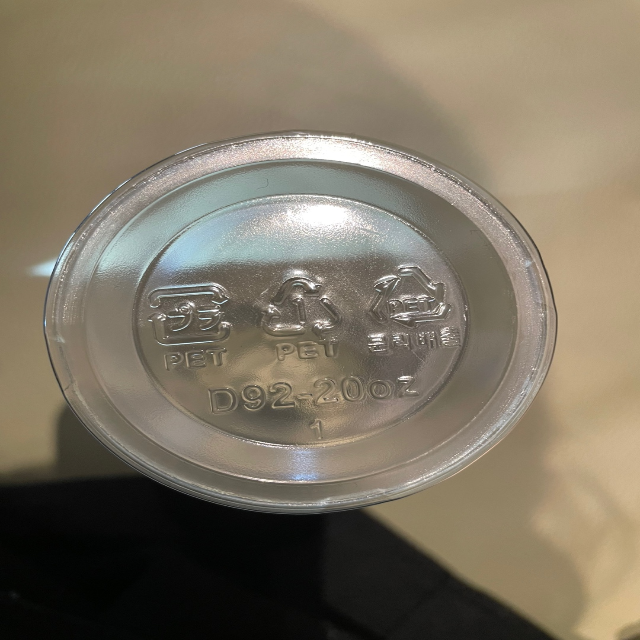pet: (359, 260, 464, 352), (253, 264, 342, 362), (141, 282, 239, 369)
